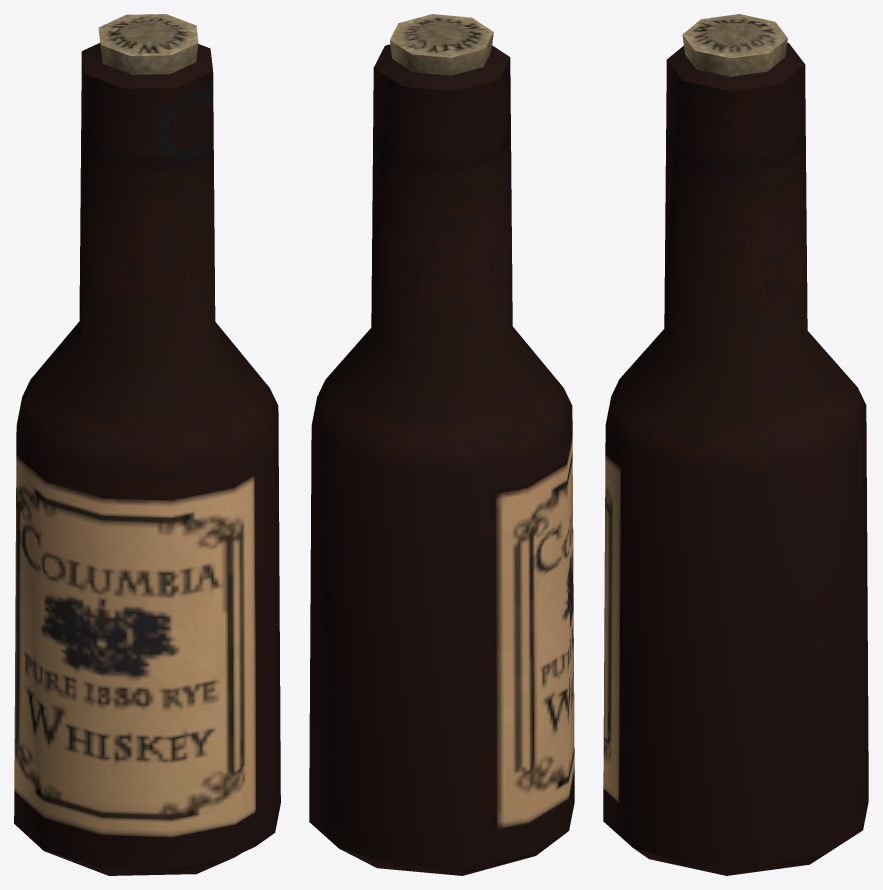
Rendered from Whiskey_Bottle.obj.
The picture shows the model from 3 angles, left to right: view 1: azimuth 30°, elevation 25°; view 2: azimuth 150°, elevation 25°; view 3: azimuth 270°, elevation 25°; orthographic projection.
Parts seen in each view (by area): view 1: Whiskey_Bottle; view 2: Whiskey_Bottle; view 3: Whiskey_Bottle.
Part boxes in pixels (left/top/right/bottom): Whiskey_Bottle: left=14, top=14, right=280, bottom=875; Whiskey_Bottle: left=309, top=14, right=574, bottom=875; Whiskey_Bottle: left=603, top=14, right=868, bottom=875.
Size of the model in its own units: 18.59 by 61.73 by 18.59.
1 material, 1 textured.
